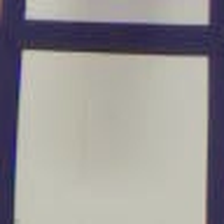empty: (18, 49, 210, 224)
